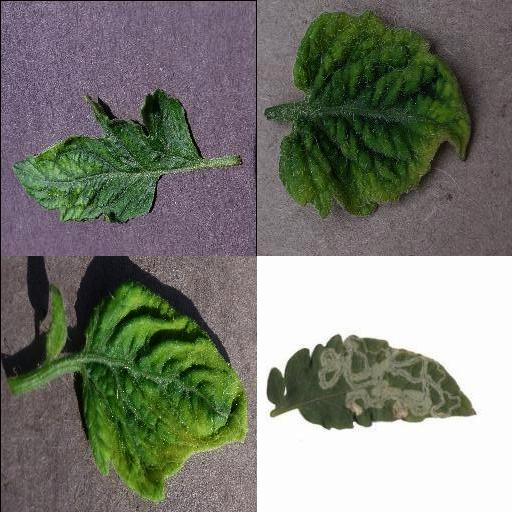Leaf Miner: (266, 332, 475, 430)
Mosaic Virus: (9, 86, 203, 222)
Yellow Leaf Curl Virus: (278, 11, 472, 217), (78, 283, 246, 501)
